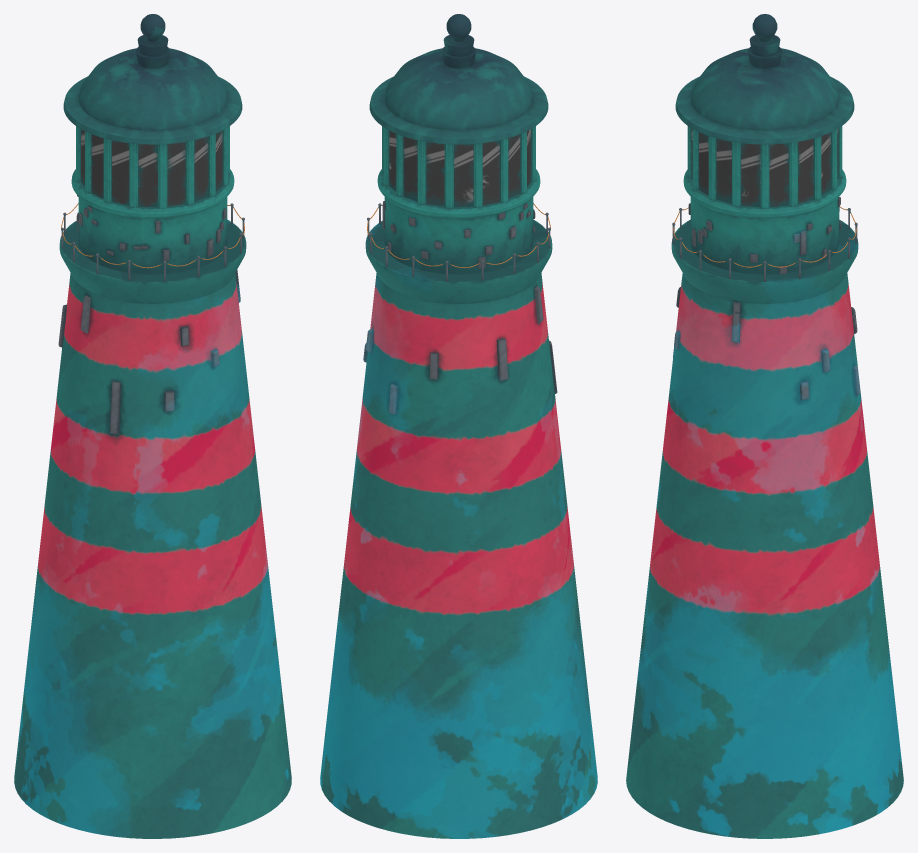
The model's file is phare.glb.
3 renders of one model, left to right at view 1: azimuth 30°, elevation 25°; view 2: azimuth 150°, elevation 25°; view 3: azimuth 270°, elevation 25°, orthographic.
Visible parts, largest first — view 1: phare, vitre; view 2: phare, vitre; view 3: phare, vitre.
Boxes of the visible parts, <box> form: phare: <box>14,14,291,838</box>; vitre: <box>81,129,222,207</box>; phare: <box>320,14,597,838</box>; vitre: <box>389,129,530,207</box>; phare: <box>626,14,903,838</box>; vitre: <box>691,128,838,207</box>.
Bounding box in the file's own units: 2 × 6.08 × 2.
Materials: 2 (2 with a texture image).
